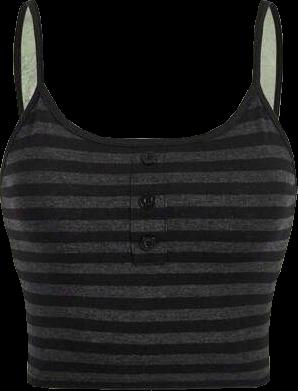Bodice: (0, 80, 297, 390)
Neckline: (40, 82, 255, 143)
Sleeve: (252, 0, 282, 115), (14, 0, 42, 114)
Sleeveline: (250, 78, 259, 85), (38, 79, 45, 85)
Waistline: (25, 376, 272, 390)
